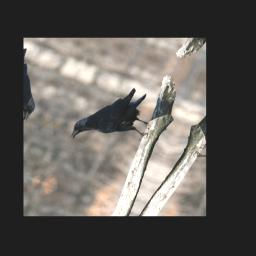Crow: (67, 75, 167, 162)
